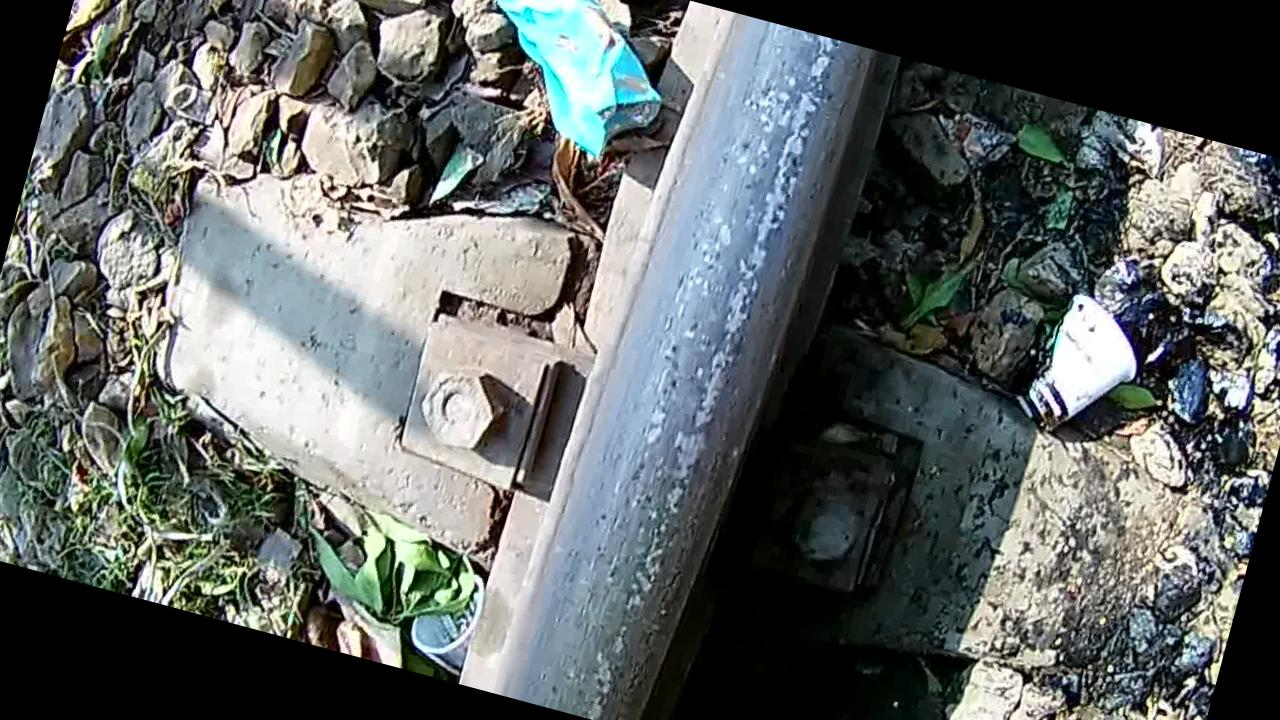clip_missing: (484, 0, 901, 720)
